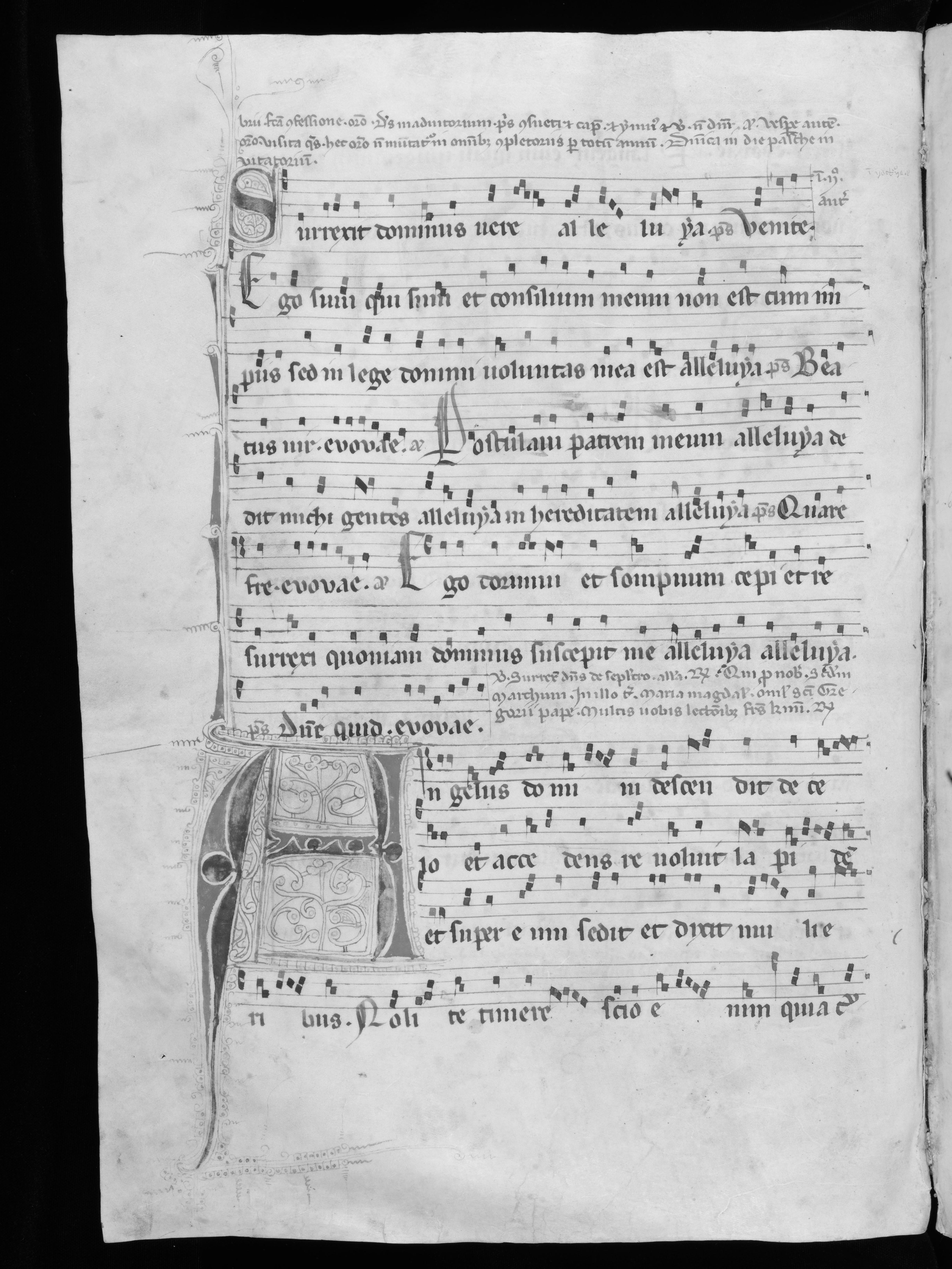music: (746, 873, 790, 900), (675, 969, 712, 1000), (548, 985, 589, 1012), (513, 178, 546, 209), (415, 745, 434, 798), (598, 185, 625, 221), (229, 534, 247, 585), (584, 742, 617, 769), (801, 816, 835, 842), (275, 969, 307, 996), (648, 185, 681, 211), (686, 729, 713, 760), (832, 861, 859, 888), (737, 818, 766, 843), (414, 979, 436, 1007), (353, 475, 376, 501), (770, 949, 781, 1002), (426, 822, 449, 847), (624, 801, 646, 827), (544, 536, 565, 563), (683, 534, 704, 561), (831, 734, 861, 752), (322, 192, 342, 218), (517, 874, 537, 900), (488, 751, 508, 776), (776, 172, 799, 193), (629, 534, 645, 562), (805, 865, 818, 899), (428, 905, 447, 928), (564, 184, 581, 208), (812, 971, 827, 998), (561, 750, 576, 776), (255, 976, 270, 1002), (784, 824, 799, 850), (654, 972, 670, 996), (524, 745, 545, 763), (323, 977, 339, 1000), (518, 533, 537, 552), (420, 199, 434, 224), (524, 816, 538, 841), (666, 819, 680, 844), (743, 532, 757, 557), (658, 744, 670, 773), (840, 821, 855, 844), (758, 391, 773, 414), (436, 751, 455, 769), (493, 335, 507, 359), (816, 738, 831, 760), (695, 267, 709, 290), (647, 339, 663, 359), (615, 399, 628, 423), (467, 763, 479, 789), (286, 613, 300, 635), (741, 980, 755, 1002), (841, 963, 857, 982), (684, 871, 703, 887), (691, 190, 703, 214), (442, 483, 454, 507), (707, 338, 719, 362), (765, 157, 774, 188), (628, 745, 640, 768), (408, 622, 421, 643), (789, 966, 802, 987), (235, 968, 246, 992), (454, 976, 466, 998), (691, 486, 703, 508), (387, 989, 400, 1009), (434, 280, 448, 298), (361, 324, 373, 345), (315, 474, 327, 495), (232, 452, 242, 477), (782, 396, 795, 415), (281, 166, 290, 193), (423, 534, 434, 556), (234, 678, 245, 700), (753, 184, 763, 208), (423, 470, 435, 490), (235, 606, 245, 630), (590, 871, 602, 891), (669, 621, 679, 645), (414, 798, 425, 819), (230, 383, 240, 406), (670, 479, 680, 502), (507, 261, 519, 280), (414, 330, 426, 349), (227, 303, 236, 328), (793, 543, 803, 565), (867, 326, 877, 348), (373, 281, 383, 302), (740, 398, 750, 419), (383, 331, 394, 350), (499, 823, 512, 839), (227, 238, 236, 261), (352, 200, 362, 220), (255, 348, 265, 368), (463, 887, 473, 907), (378, 630, 389, 648), (544, 808, 553, 830), (611, 870, 622, 888), (836, 483, 845, 505), (779, 264, 788, 286), (339, 274, 348, 295), (398, 426, 407, 447), (302, 328, 313, 345), (333, 342, 344, 359), (693, 819, 704, 836), (738, 258, 749, 275), (417, 869, 425, 892), (464, 488, 473, 508), (292, 539, 302, 557), (439, 539, 449, 557), (789, 733, 799, 751), (588, 538, 599, 554), (485, 894, 496, 910), (297, 211, 306, 230), (290, 270, 299, 289), (523, 330, 532, 349), (285, 475, 294, 494), (456, 538, 465, 557), (694, 627, 703, 646), (437, 337, 447, 354), (457, 337, 467, 354), (550, 335, 560, 352), (382, 430, 392, 447), (490, 540, 500, 557), (681, 350, 691, 367), (449, 199, 457, 220), (488, 183, 496, 204), (741, 737, 752, 752), (540, 254, 549, 272), (561, 259, 570, 277), (358, 414, 367, 432), (320, 541, 329, 559), (334, 544, 343, 562), (648, 871, 657, 889), (371, 419, 379, 439), (604, 475, 614, 491), (347, 554, 355, 574), (362, 551, 370, 571), (349, 630, 359, 646), (599, 613, 609, 629), (321, 685, 331, 701), (417, 683, 427, 699), (447, 682, 457, 698), (836, 623, 846, 639), (737, 488, 745, 508), (748, 342, 758, 358), (862, 281, 872, 297), (491, 975, 503, 988), (694, 402, 705, 416), (269, 270, 278, 287), (480, 268, 489, 285), (625, 335, 634, 352), (256, 471, 265, 488), (256, 541, 265, 558), (253, 626, 262, 643), (473, 840, 482, 857), (712, 622, 721, 639), (717, 491, 726, 508), (555, 872, 563, 891), (769, 550, 777, 569), (619, 261, 629, 276), (532, 412, 542, 427), (476, 626, 486, 641), (736, 615, 746, 630), (587, 268, 595, 286), (345, 415, 354, 431), (391, 496, 400, 512), (541, 484, 550, 500), (560, 482, 569, 498), (307, 539, 315, 557), (308, 630, 317, 646), (504, 612, 513, 628), (404, 682, 412, 700), (476, 682, 485, 698), (612, 985, 624, 997), (813, 492, 822, 508), (662, 402, 671, 418), (806, 401, 814, 419), (586, 487, 597, 500), (467, 430, 477, 444), (572, 617, 582, 631), (638, 624, 648, 638), (353, 685, 363, 699), (275, 348, 283, 365), (462, 675, 470, 692), (659, 872, 667, 889), (259, 416, 268, 431), (549, 412, 558, 427), (586, 412, 595, 427), (629, 469, 638, 484), (546, 613, 555, 628), (524, 974, 533, 989), (820, 348, 829, 363), (489, 500, 499, 513), (712, 883, 722, 896), (813, 620, 823, 633), (387, 193, 395, 209), (311, 698, 319, 714), (433, 694, 441, 710), (766, 619, 774, 635), (818, 556, 826, 572), (445, 636, 454, 650), (299, 702, 308, 716), (631, 984, 640, 998), (841, 390, 850, 404), (731, 343, 740, 357), (298, 415, 306, 430), (507, 425, 517, 437), (865, 867, 873, 882), (865, 829, 873, 844), (863, 389, 871, 404), (645, 267, 653, 282), (603, 345, 612, 358), (332, 416, 341, 429), (865, 739, 872, 755), (790, 632, 798, 646), (862, 624, 870, 638), (865, 473, 873, 487), (517, 484, 524, 499), (829, 277, 836, 292), (579, 816, 587, 829), (837, 340, 844, 354), (865, 543, 873, 555), (865, 971, 872, 983)
text: (175, 726, 415, 970), (236, 110, 841, 154), (493, 665, 854, 727), (179, 969, 236, 1128), (136, 164, 225, 265), (179, 35, 237, 163), (225, 163, 285, 250), (240, 506, 411, 533), (205, 463, 229, 628), (608, 564, 726, 597), (231, 72, 331, 110), (530, 502, 659, 531), (419, 385, 465, 466), (733, 426, 848, 458), (462, 284, 596, 311), (179, 1126, 239, 1185), (759, 639, 857, 672), (734, 564, 835, 596), (200, 347, 228, 462), (373, 221, 524, 241), (206, 625, 234, 731), (663, 641, 752, 673), (200, 266, 228, 364), (677, 356, 765, 386), (662, 500, 753, 529), (325, 646, 424, 672), (529, 641, 617, 670), (469, 431, 563, 457), (320, 360, 394, 393), (418, 505, 502, 534), (399, 531, 439, 591), (429, 644, 524, 669), (243, 644, 318, 675), (565, 432, 645, 461), (482, 360, 587, 382), (449, 1004, 554, 1026), (774, 492, 848, 523), (425, 784, 514, 808), (640, 217, 707, 248), (447, 918, 506, 952), (591, 359, 677, 382), (347, 997, 384, 1050), (293, 225, 371, 250), (766, 283, 844, 308), (274, 576, 371, 596), (670, 916, 734, 946), (322, 436, 408, 458), (600, 994, 667, 1022), (394, 717, 486, 737), (477, 572, 564, 593), (650, 846, 728, 869), (238, 251, 267, 312), (811, 166, 851, 209), (577, 917, 634, 946), (793, 347, 843, 380), (648, 774, 714, 799), (395, 365, 480, 384), (650, 431, 726, 452), (276, 711, 326, 741), (758, 216, 816, 241), (600, 290, 672, 310), (236, 152, 320, 169), (520, 778, 583, 800), (332, 719, 392, 742), (510, 922, 569, 945), (722, 205, 758, 242), (779, 999, 830, 1025), (403, 286, 453, 312), (239, 364, 282, 394), (309, 286, 359, 311), (559, 848, 613, 871), (776, 775, 827, 799), (300, 1007, 352, 1030), (729, 775, 773, 800), (558, 219, 610, 240), (363, 291, 403, 318), (110, 624, 208, 635), (282, 431, 321, 458), (725, 1000, 773, 1021), (674, 290, 721, 310), (493, 852, 540, 872), (242, 572, 274, 601), (385, 1008, 423, 1032), (442, 572, 471, 602), (735, 920, 776, 941), (288, 359, 319, 386), (414, 945, 450, 968), (800, 918, 835, 940), (725, 287, 762, 307), (772, 846, 799, 873), (622, 645, 659, 664), (277, 292, 304, 318), (766, 354, 791, 382), (832, 993, 859, 1018), (827, 844, 859, 865), (752, 499, 776, 526), (243, 440, 277, 459), (707, 219, 735, 242), (461, 853, 490, 874), (167, 734, 205, 750), (581, 570, 606, 594), (619, 849, 645, 872), (418, 853, 441, 878), (246, 720, 271, 742), (505, 505, 528, 528), (734, 845, 756, 869), (619, 779, 644, 799), (641, 922, 667, 941), (422, 928, 447, 946), (236, 1014, 246, 1054), (372, 574, 390, 596), (249, 1010, 268, 1029), (409, 437, 424, 456), (182, 429, 200, 440)
